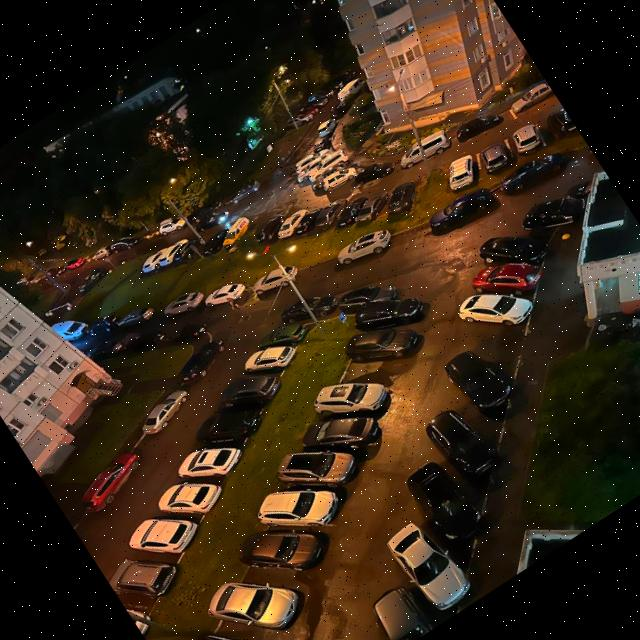car: (387, 520, 470, 609), (406, 462, 483, 546), (427, 408, 500, 476), (206, 582, 299, 628), (445, 350, 512, 410), (369, 585, 434, 640), (81, 453, 140, 512), (237, 530, 326, 567), (497, 152, 567, 194), (428, 186, 493, 230), (257, 490, 338, 525), (194, 403, 265, 442), (275, 451, 356, 485), (302, 418, 380, 450), (109, 560, 177, 595), (352, 297, 424, 330), (128, 518, 197, 552), (313, 382, 386, 413), (458, 294, 532, 323), (345, 328, 418, 357), (520, 198, 585, 230), (140, 390, 187, 434), (470, 263, 543, 291), (399, 129, 450, 169), (477, 235, 549, 263), (177, 447, 242, 477), (220, 375, 280, 407), (179, 339, 223, 381), (337, 229, 391, 263), (158, 483, 221, 512), (336, 285, 397, 312), (280, 296, 338, 322), (510, 81, 551, 114), (251, 266, 297, 294), (455, 112, 499, 141), (244, 346, 295, 371), (257, 324, 307, 349), (308, 149, 348, 180), (250, 214, 284, 246), (355, 191, 388, 222), (387, 180, 416, 215), (163, 290, 203, 315), (315, 198, 347, 229), (337, 196, 370, 226), (277, 209, 308, 239), (352, 162, 395, 183), (222, 217, 250, 249), (172, 234, 204, 262), (312, 162, 345, 189), (547, 106, 578, 134), (125, 329, 166, 350), (204, 284, 244, 305), (481, 142, 509, 172), (76, 269, 107, 296), (117, 306, 155, 328), (449, 155, 473, 189), (512, 123, 539, 153), (230, 178, 261, 204), (322, 167, 356, 190), (50, 320, 89, 340), (193, 210, 230, 231), (159, 238, 187, 265), (294, 208, 322, 234), (191, 201, 224, 223), (203, 228, 228, 256), (87, 315, 119, 336), (142, 247, 168, 272), (174, 322, 207, 340), (158, 216, 187, 233), (111, 237, 139, 253), (92, 243, 111, 259)
